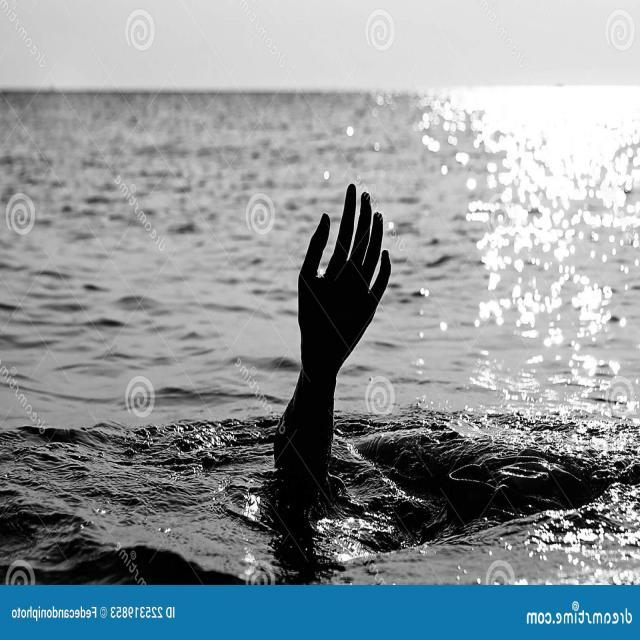Out of Water: (232, 180, 401, 583)
